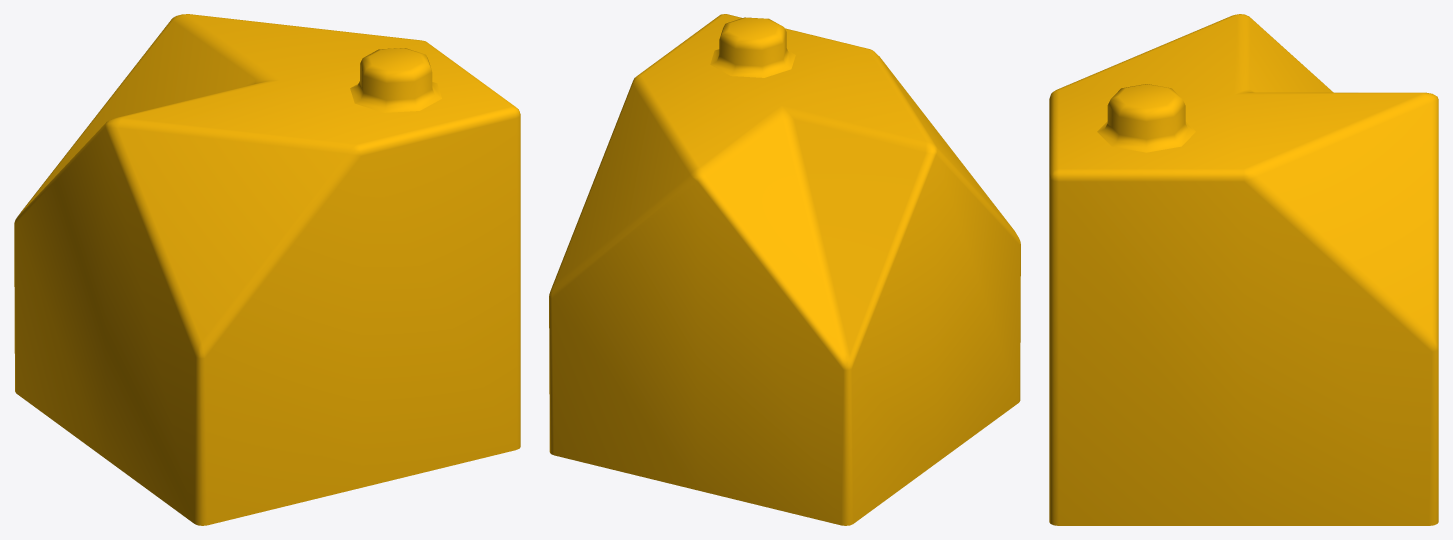
The model's file is Lowered_Corner_Two_Vertex_Bevels_Opposite.fbx.
3 renders of one model, left to right at view 1: azimuth 30°, elevation 25°; view 2: azimuth 150°, elevation 25°; view 3: azimuth 270°, elevation 25°, orthographic. The views are drawn at different scales.
Visible parts, largest first — view 1: Lowered_Corner_Two_Vertex_Bevels_Opposite, Knobs.007; view 2: Lowered_Corner_Two_Vertex_Bevels_Opposite, Knobs.007; view 3: Lowered_Corner_Two_Vertex_Bevels_Opposite, Knobs.007.
Part boxes in pixels (x1,y1,x2,y2): Lowered_Corner_Two_Vertex_Bevels_Opposite: (14,14,520,525); Knobs.007: (350,48,441,112); Lowered_Corner_Two_Vertex_Bevels_Opposite: (549,14,1020,525); Knobs.007: (710,17,795,77); Lowered_Corner_Two_Vertex_Bevels_Opposite: (1049,14,1438,525); Knobs.007: (1097,84,1195,152).
Bounding box in the file's own units: 1 × 1.1 × 1.
